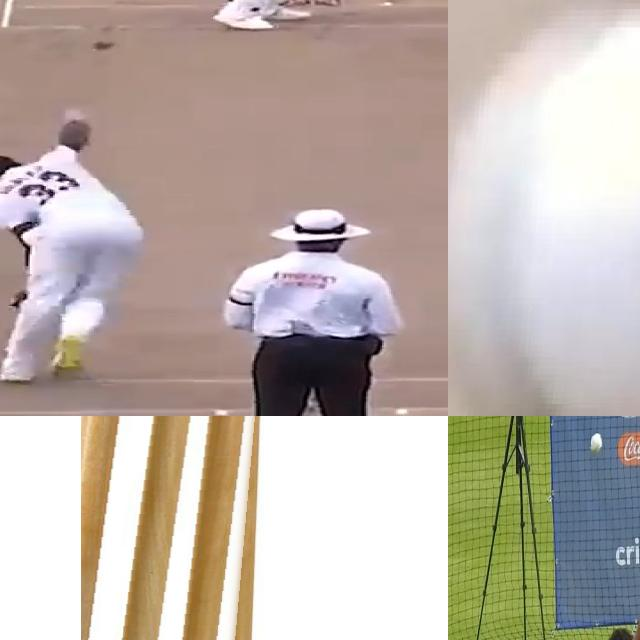Cricket ball: (448, 1, 640, 416), (92, 38, 118, 54), (590, 430, 605, 457)
Stumps: (80, 416, 270, 640)
